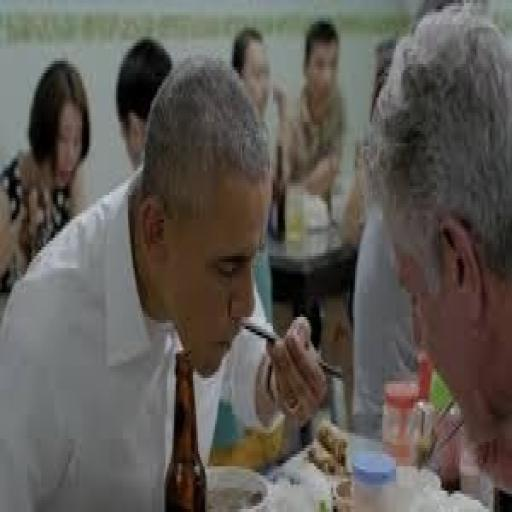eating: (2, 52, 329, 509)
